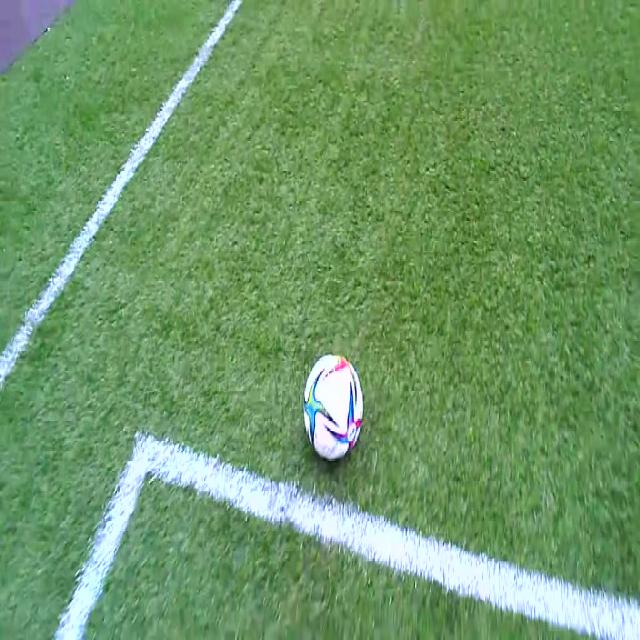ball: (304, 354, 363, 460)
